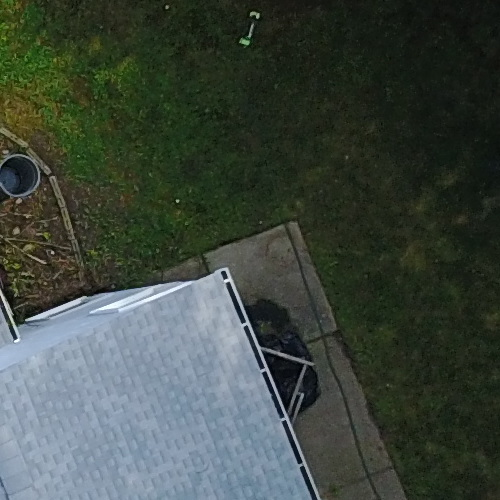trash bin: (1, 140, 53, 208)
